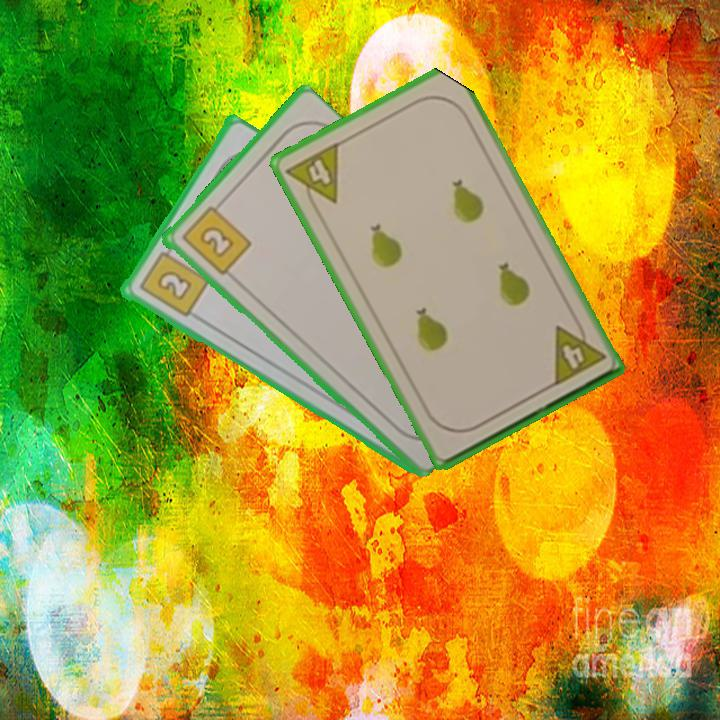2b: (177, 197, 254, 278), (135, 241, 211, 320)
4p: (282, 138, 342, 216), (549, 314, 608, 389)
